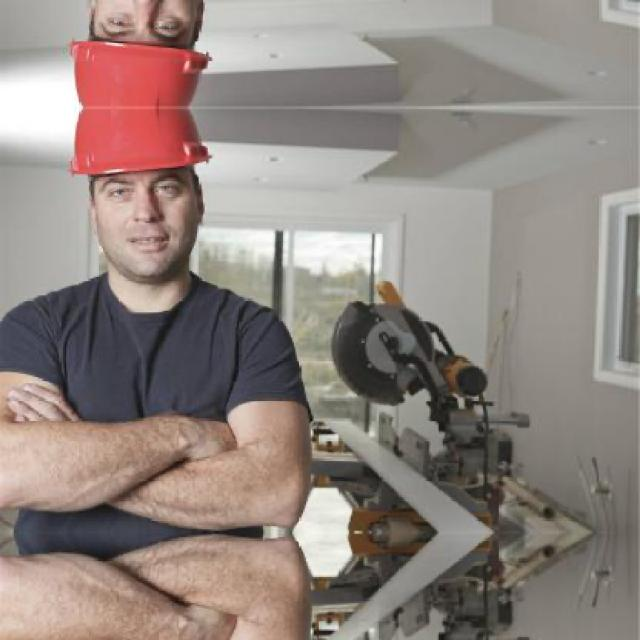helmet: (52, 106, 230, 283), (52, 0, 231, 108)
